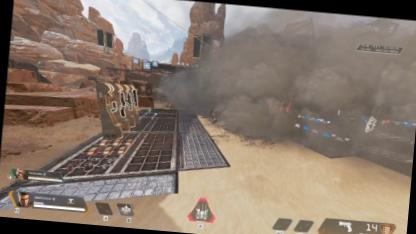Target: (209, 108, 221, 124)
